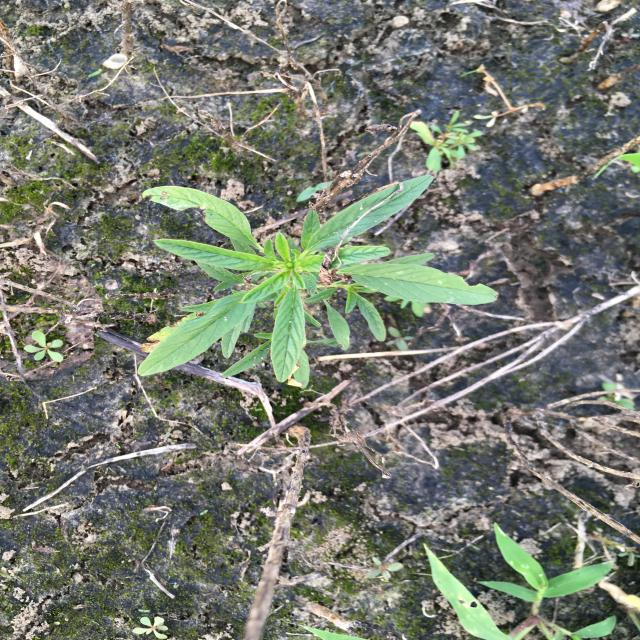Carpetweed: (409, 107, 489, 174), (17, 326, 67, 366)
Waterhemp: (134, 174, 501, 390)
